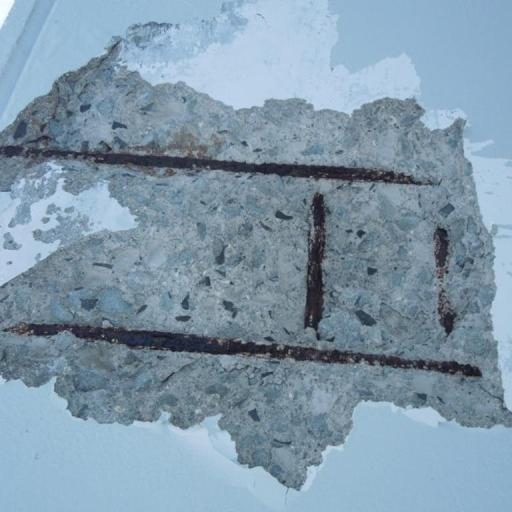spalling: (0, 27, 510, 489)
